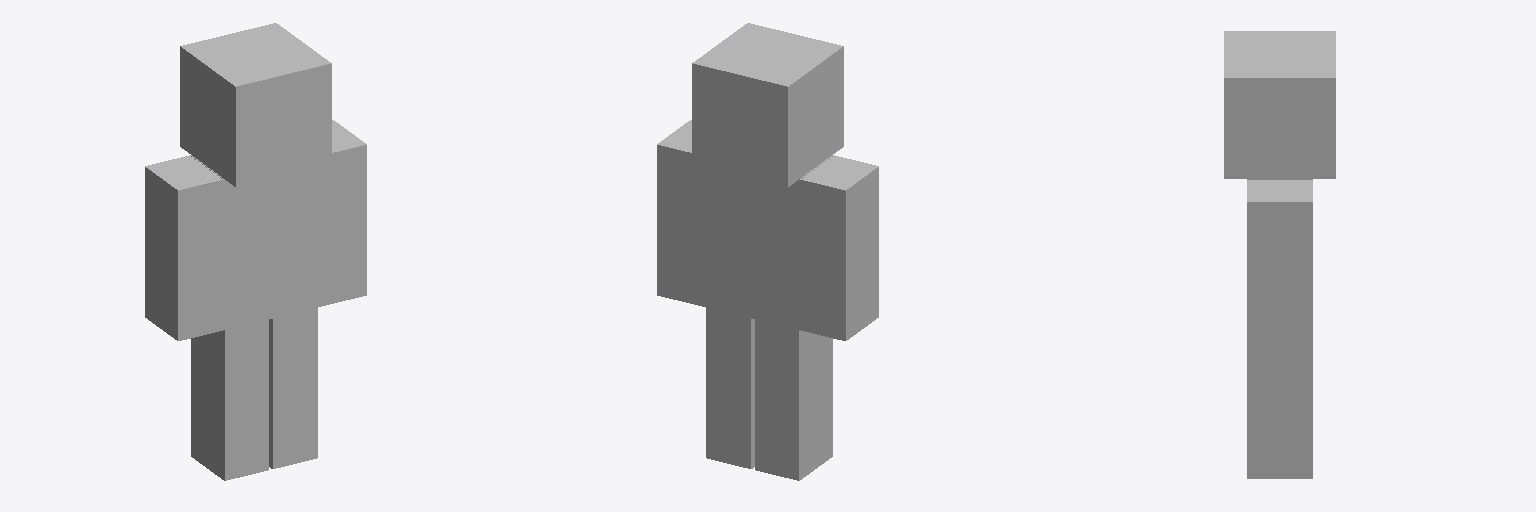
File: マイクラ.obj
The picture shows the model from 3 angles: view 1: azimuth 30°, elevation 25°; view 2: azimuth 150°, elevation 25°; view 3: azimuth 270°, elevation 25°; orthographic projection.
Parts seen in each view (by area): view 1: face, body; view 2: face, body; view 3: face.
Part boxes in pixels (bbox=[...]): face: bbox=[145, 23, 366, 480]; body: bbox=[190, 155, 321, 329]; face: bbox=[657, 23, 878, 480]; body: bbox=[702, 155, 833, 329]; face: bbox=[1224, 31, 1335, 478].
Size of the model in its own units: 3.93 by 8 by 2.